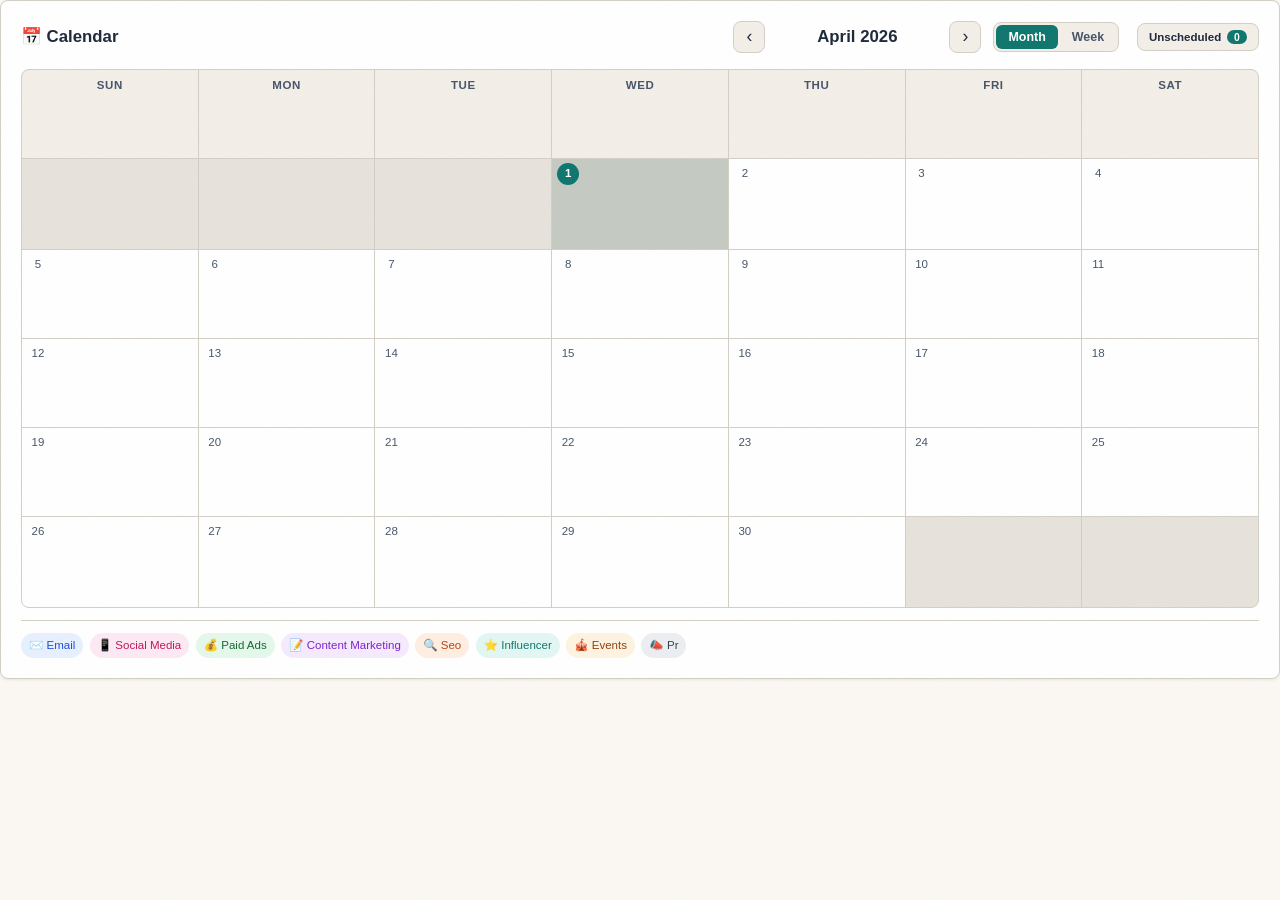
it: CalendarView – view toggle › switches to week view when Week button is clicked
Click the button "Week" at (1088, 37), box [1060,25,1116,49]
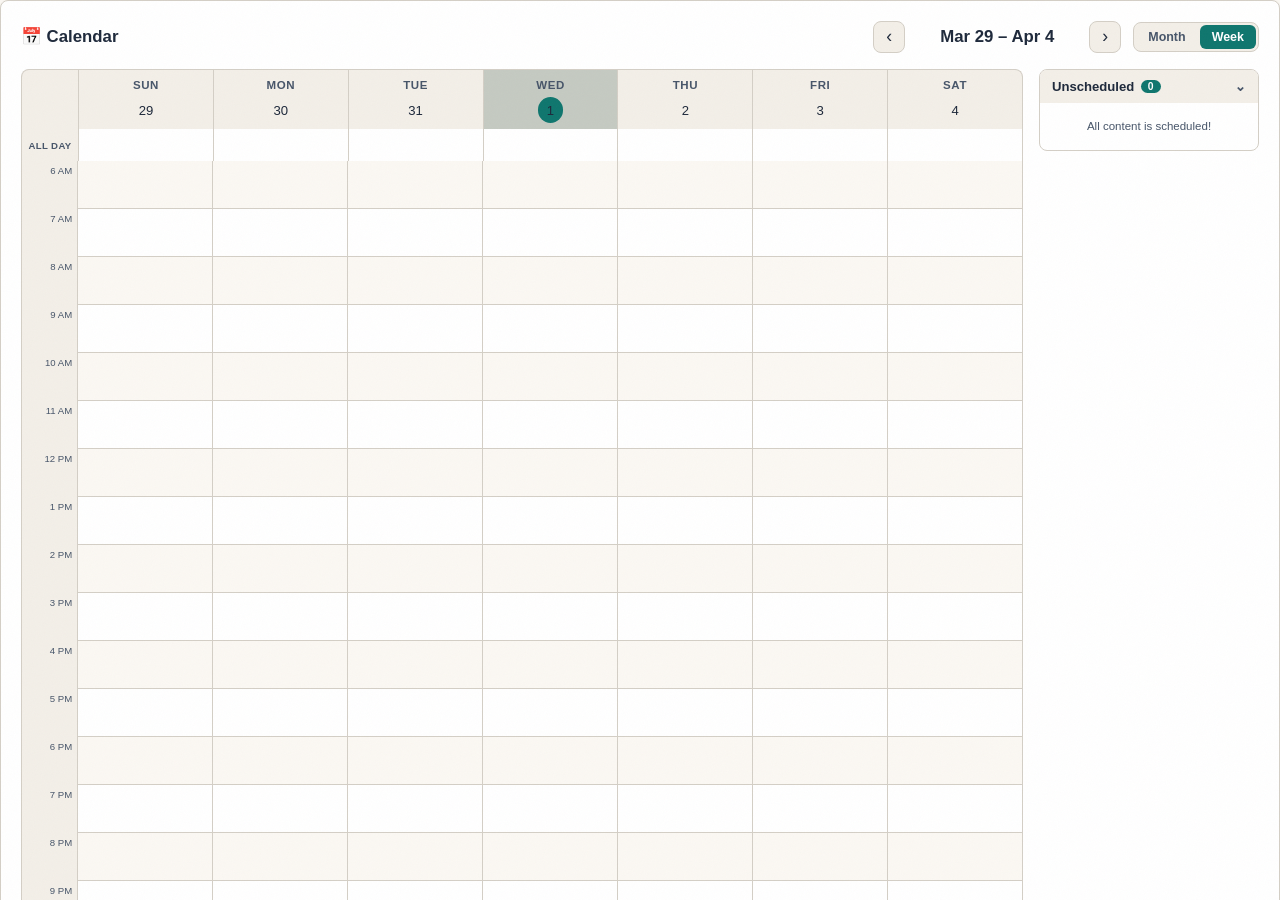
Check: the text "All Day" is shown, box [22,129,78,161]
